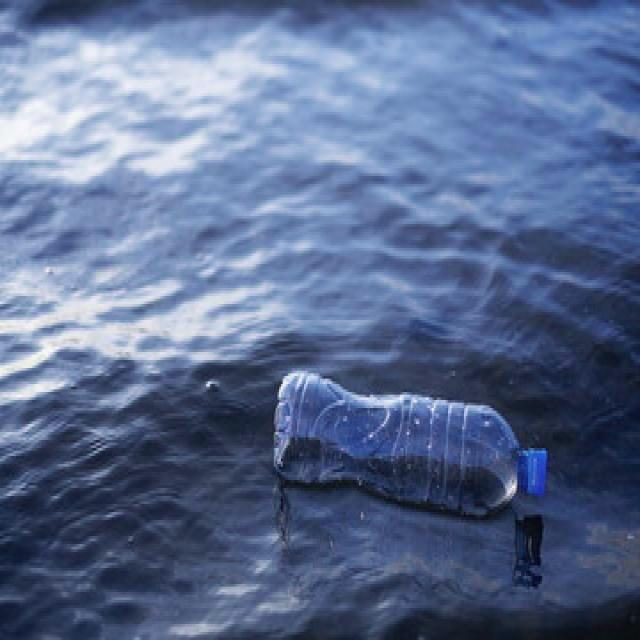Plastic: (268, 369, 552, 518)
